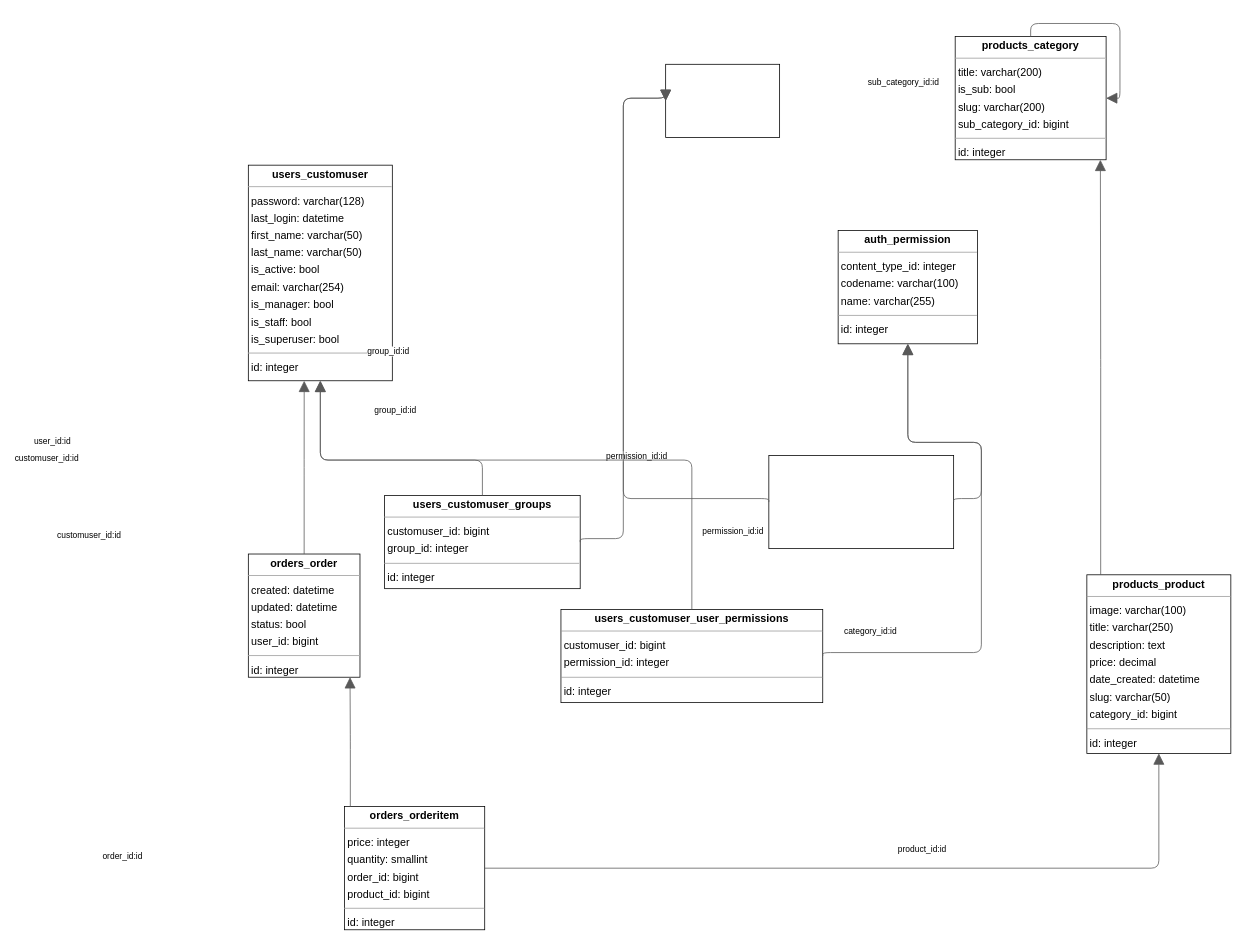
The diagram is 1244 pixels wide and 943 high, and some of its shapes have lost their labels. Each missing label, with the box of its shape:
auth_group name: varchar(150) id: integer: (665, 64, 780, 137)
auth_group_permissions group_id: integer permission_id: integer id: integer: (768, 455, 954, 549)
